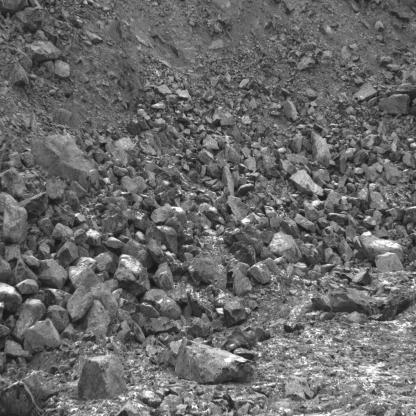stone: (174, 339, 257, 385), (29, 136, 99, 190), (76, 355, 126, 399), (113, 255, 151, 300), (190, 247, 228, 291), (0, 379, 42, 416), (11, 298, 47, 338), (140, 289, 182, 320), (23, 320, 61, 353), (267, 231, 305, 264), (3, 195, 28, 245), (121, 238, 153, 271), (66, 284, 93, 323), (89, 283, 118, 318), (223, 296, 258, 325), (289, 169, 325, 196), (86, 300, 111, 337), (220, 327, 256, 352), (20, 192, 49, 222), (39, 259, 68, 289), (0, 281, 23, 318), (69, 265, 101, 291), (249, 257, 281, 283), (102, 203, 128, 235), (231, 262, 254, 297), (10, 257, 36, 286), (156, 224, 178, 257), (229, 241, 256, 267), (311, 133, 332, 166), (145, 238, 170, 265), (185, 313, 211, 338), (376, 251, 405, 273), (56, 241, 79, 268), (379, 93, 410, 113), (152, 263, 174, 291), (227, 196, 251, 221), (47, 306, 69, 333), (45, 288, 73, 308), (53, 203, 75, 227), (4, 339, 33, 357), (130, 205, 149, 231), (45, 178, 67, 200), (369, 191, 390, 214), (299, 242, 319, 266), (383, 163, 405, 184), (151, 203, 173, 224), (212, 107, 235, 127), (222, 163, 235, 198), (140, 195, 162, 214), (282, 217, 301, 239), (16, 278, 39, 295), (338, 239, 354, 263), (93, 253, 113, 272), (359, 134, 381, 151), (352, 149, 371, 168), (146, 221, 161, 245), (303, 200, 320, 221), (354, 181, 369, 204), (52, 223, 73, 239), (120, 176, 141, 192), (225, 142, 240, 163), (324, 191, 341, 209), (352, 270, 372, 285), (198, 147, 215, 164), (202, 134, 220, 150), (284, 99, 297, 121), (88, 227, 102, 247), (289, 133, 303, 153), (206, 160, 220, 179), (363, 166, 378, 183), (236, 183, 254, 197), (402, 153, 416, 169), (262, 154, 275, 169), (265, 167, 281, 179)
